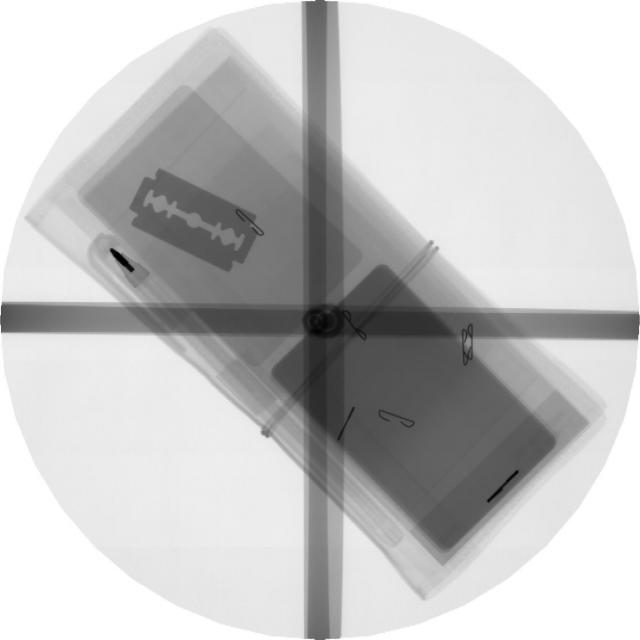BLADE: (124, 161, 266, 280)
